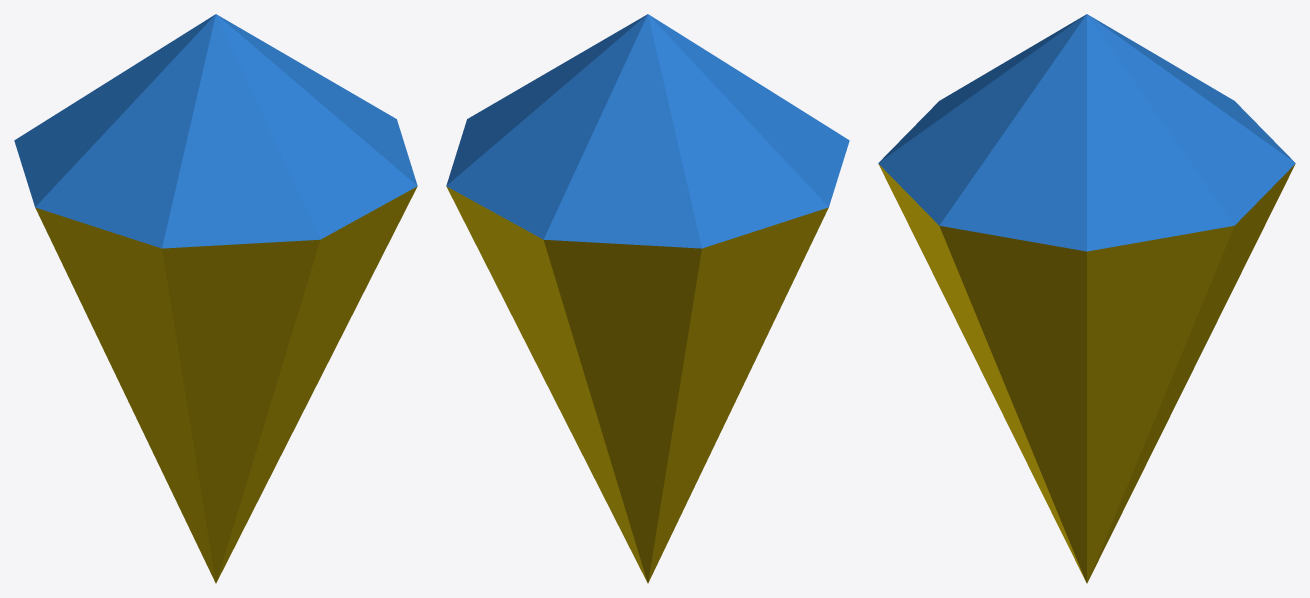
Rendered from player.fbx.
The picture shows the model from 3 angles, left to right: view 1: azimuth 30°, elevation 25°; view 2: azimuth 150°, elevation 25°; view 3: azimuth 270°, elevation 25°; orthographic projection.
Parts seen in each view (by area): view 1: Cone.001; view 2: Cone.001; view 3: Cone.001.
Part boxes in pixels (x1,y1,x2,y2): Cone.001: (14, 14, 417, 583); Cone.001: (446, 14, 849, 583); Cone.001: (878, 14, 1295, 583).
Size of the model in its own units: 90 by 135 by 90.
